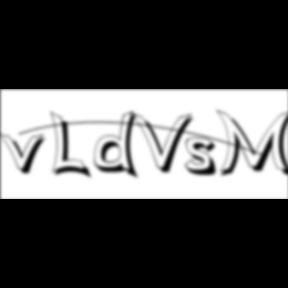L: (51, 110, 95, 182)
V: (130, 110, 198, 176)
d: (94, 110, 144, 182)
s: (184, 137, 224, 179)
v: (0, 131, 52, 177)
